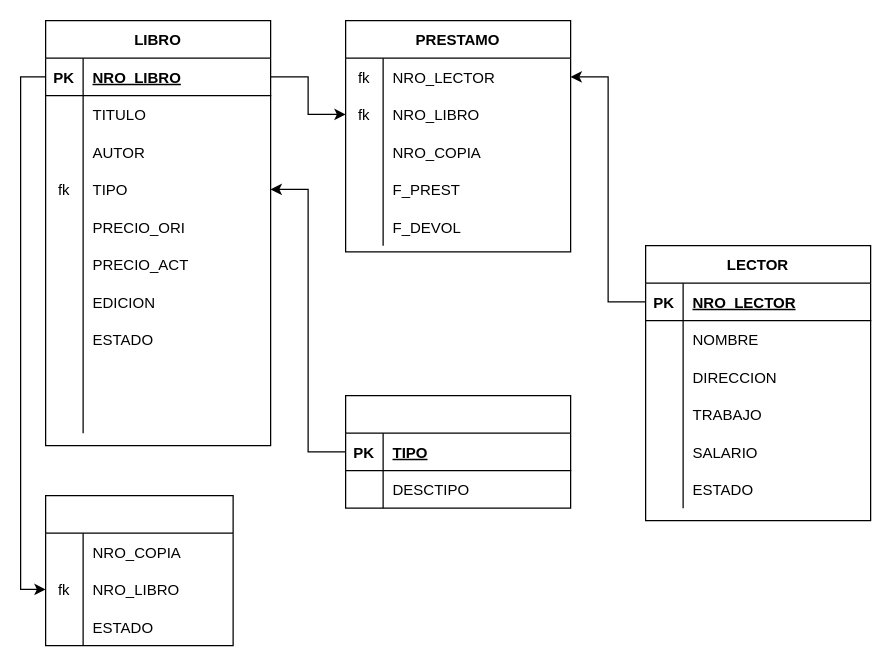
Some shapes in this 891 by 666 pixel diagram are drawn without their labels. Each missing label, with the box of its shape:
COPIAS: (44, 494, 233, 646)
TIPOLIBRO: (344, 394, 571, 508)
